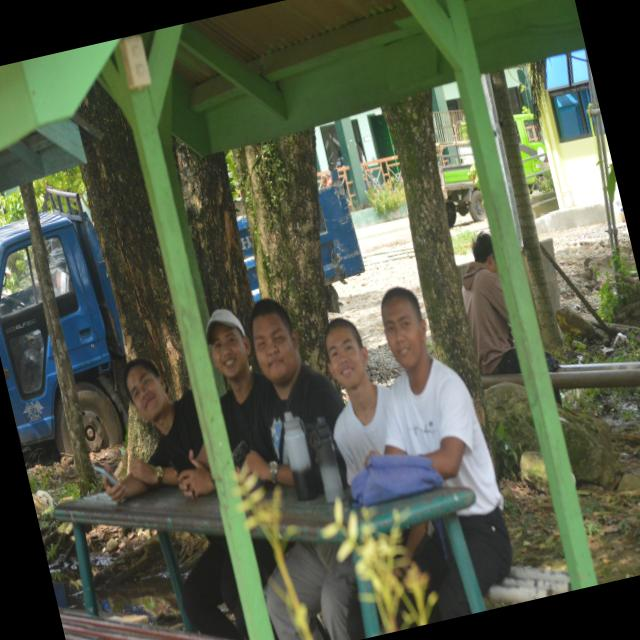person: (382, 288, 512, 593), (245, 299, 344, 486)
